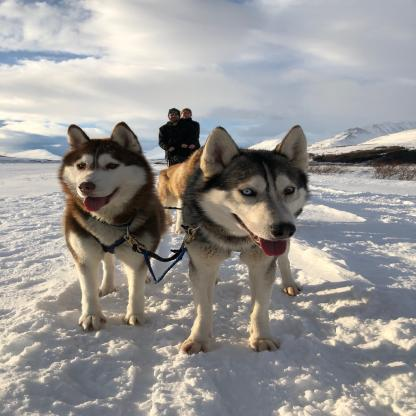dog: (176, 124, 314, 355), (55, 122, 169, 338)
